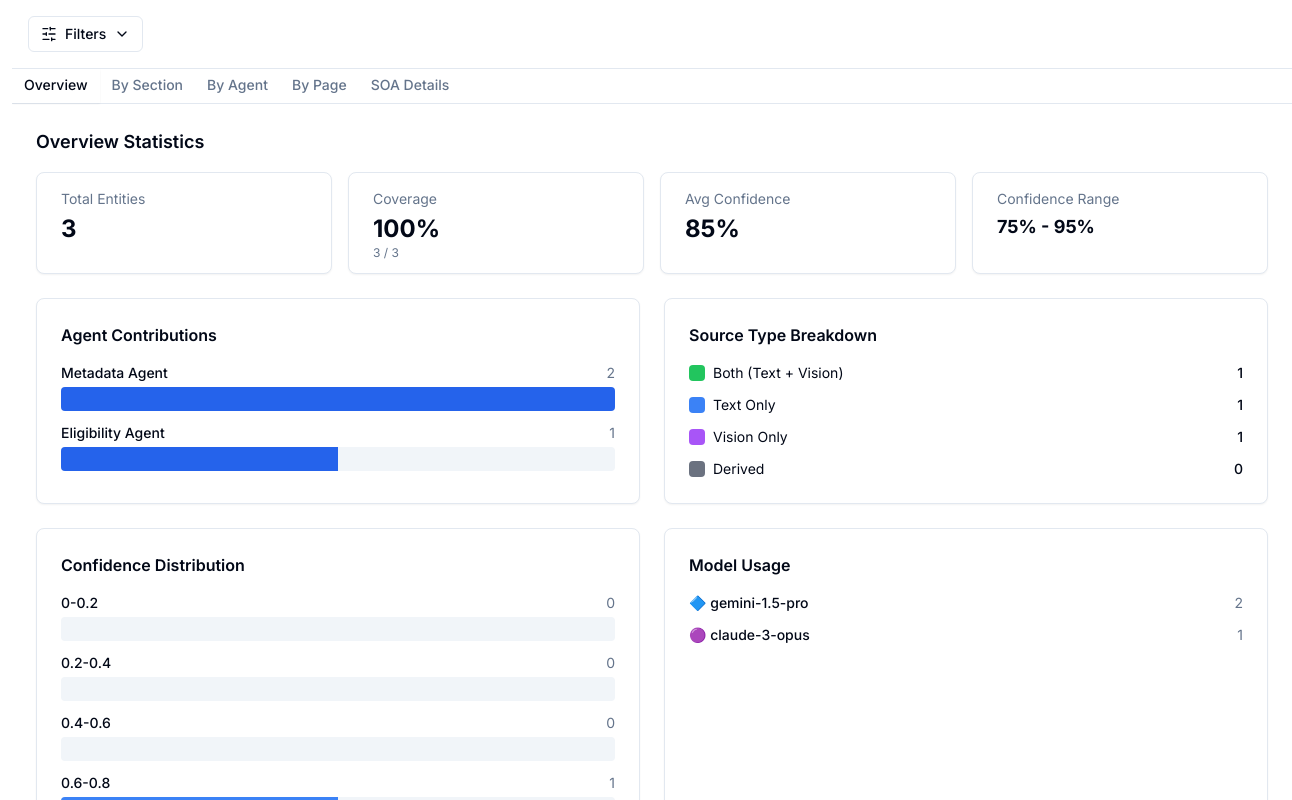
ProvenanceView - Global Filtering › should show filter controls when toggle is clicked
Click the button "Filters". click: (86, 34)
box: top-left (28, 16), bottom-right (143, 52)
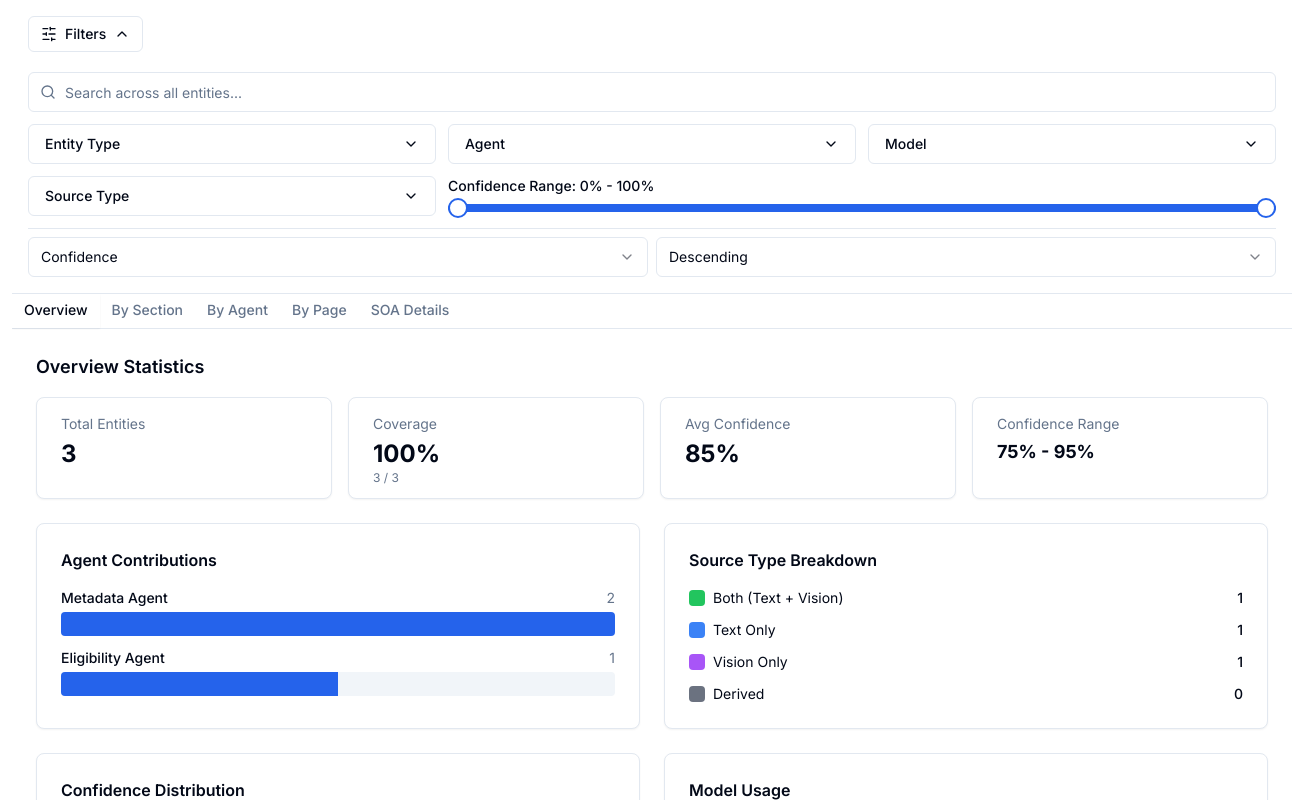
Now the field with placeholder "Search across all entities..." is shown, box top-left (28, 72), bottom-right (1276, 112)
